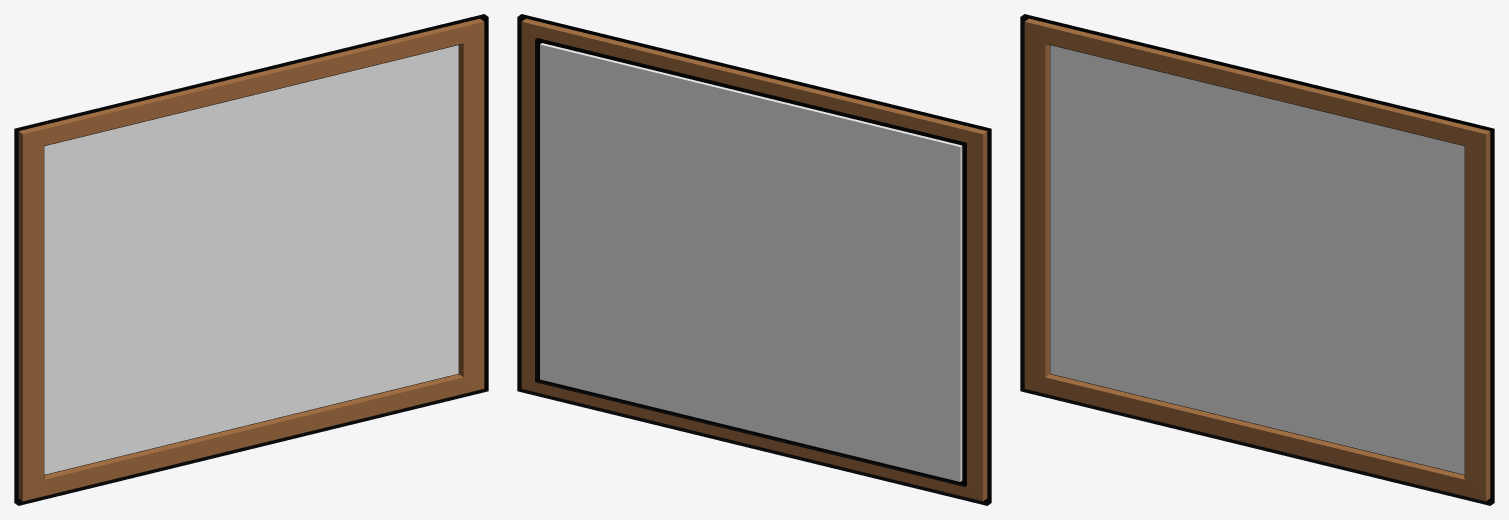
The model's file is tableau-paysage-moyen.glb.
The picture shows the model from 3 angles, left to right: view 1: azimuth 30°, elevation 25°; view 2: azimuth 150°, elevation 25°; view 3: azimuth 330°, elevation 25°; orthographic projection.
Parts seen in each view (by area): view 1: Cube.004; view 2: Cube.004; view 3: Cube.004.
Part boxes in pixels (x1,y1,x2,y2): Cube.004: (14,14,488,505); Cube.004: (517,14,991,505); Cube.004: (1020,14,1494,505).
Bounding box in the file's own units: 2.71 × 2.06 × 0.067.
